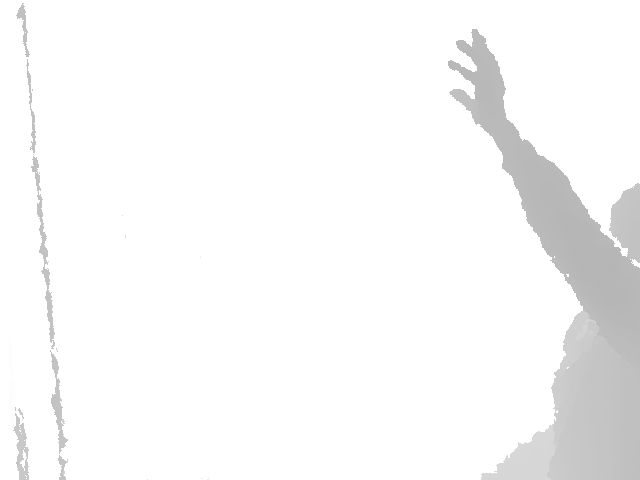hand: (448, 29, 518, 130)
person: (448, 29, 640, 480)
